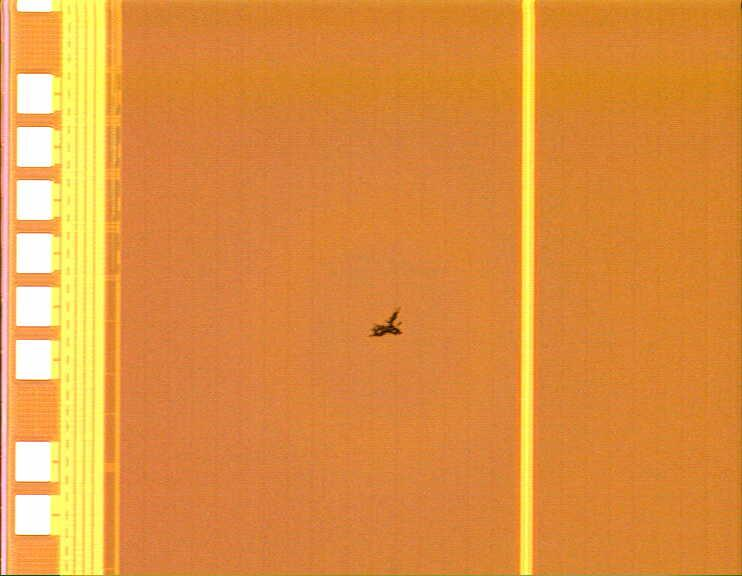PIQ PARTICLE: (362, 302, 411, 351)
